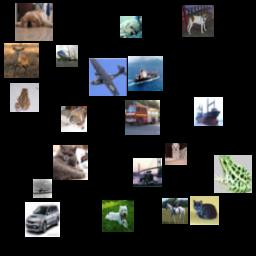airplane: (89, 58, 127, 96), (56, 45, 78, 67), (33, 179, 52, 198)
automobile: (25, 202, 60, 237)
cat: (53, 145, 88, 180), (190, 196, 219, 225)
deer: (4, 43, 39, 78)
dog: (15, 3, 53, 41), (102, 200, 134, 232), (182, 5, 214, 37), (61, 106, 87, 132), (165, 143, 187, 165), (120, 16, 142, 38)
frog: (214, 155, 252, 193), (10, 83, 39, 112)
ship: (128, 56, 163, 91), (194, 97, 223, 126)
truck: (125, 100, 160, 135), (133, 158, 162, 187)
